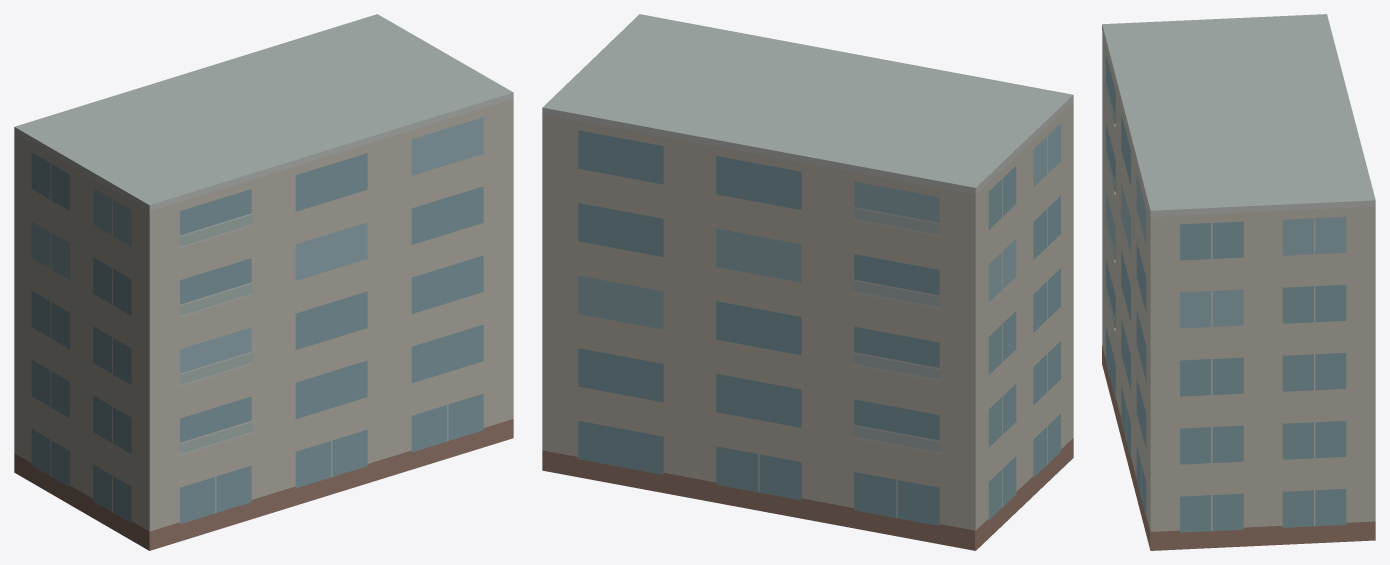
The model's file is survey-upis-32854389.glb.
3 views of the same model, side by side, from view 1: azimuth 30°, elevation 25°; view 2: azimuth 150°, elevation 25°; view 3: azimuth 270°, elevation 25° (orthographic). The views are drawn at different scales.
Visible parts, largest first — view 1: survey-upis-32854389.tmp; view 2: survey-upis-32854389.tmp; view 3: survey-upis-32854389.tmp.
Part boxes in pixels (x1=…): survey-upis-32854389.tmp: x1=14, y1=14, x2=513, y2=550; survey-upis-32854389.tmp: x1=542, y1=14, x2=1073, y2=550; survey-upis-32854389.tmp: x1=1102, y1=14, x2=1375, y2=550.
Size of the model in its own units: 16.51 by 13.3 by 9.71.
